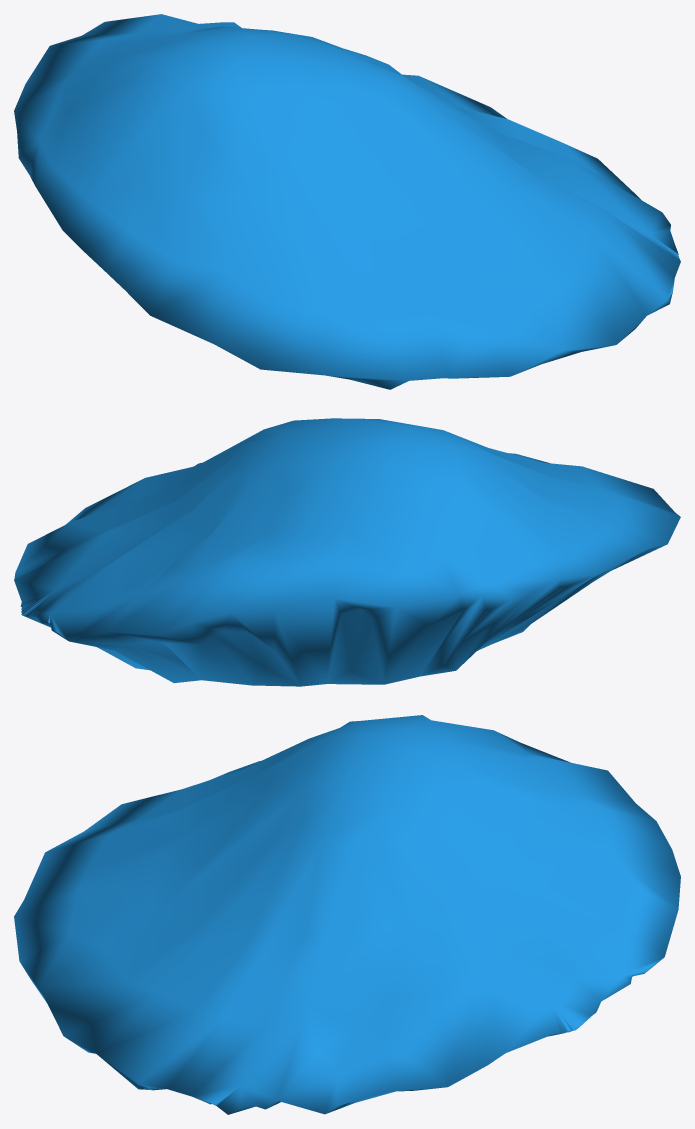
File: SM_mushroom_blue_01.fbx
The picture shows the model from 3 angles, top to bottom: view 1: azimuth 30°, elevation 25°; view 2: azimuth 150°, elevation 25°; view 3: azimuth 270°, elevation 25°; orthographic projection. The views are drawn at different scales.
Visible parts, largest first — view 1: mushroom_blue_01; view 2: mushroom_blue_01; view 3: mushroom_blue_01.
Boxes of the visible parts, left/top/right/bottom form: mushroom_blue_01: left=14, top=14, right=680, bottom=389; mushroom_blue_01: left=14, top=418, right=680, bottom=686; mushroom_blue_01: left=14, top=715, right=680, bottom=1114.
Size of the model in its own units: 429 by 191 by 462.
